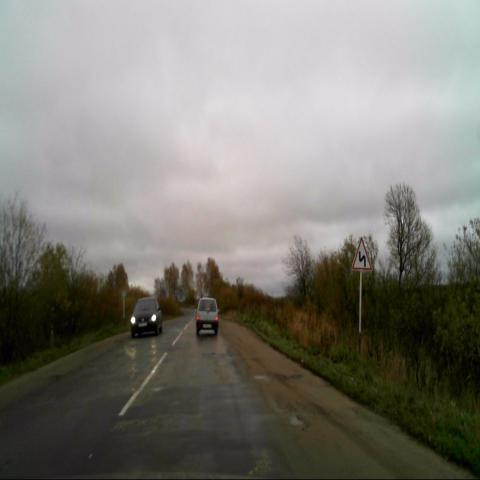1_12_2: (350, 234, 373, 271)
